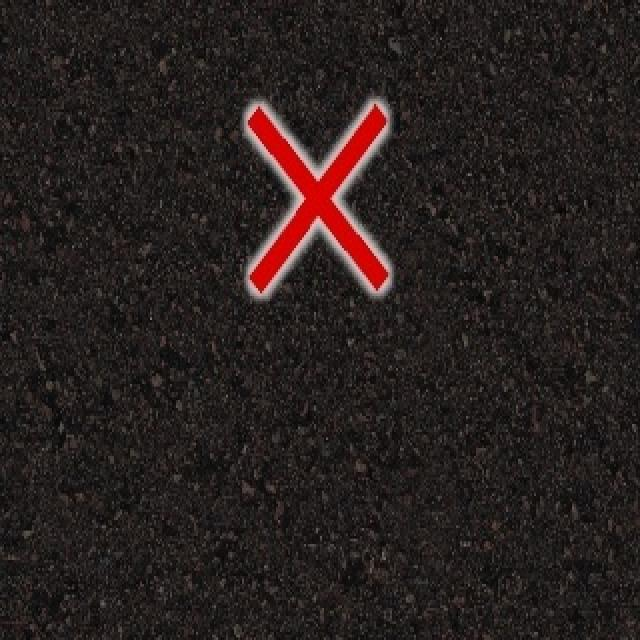x_marker: (247, 103, 387, 292)
